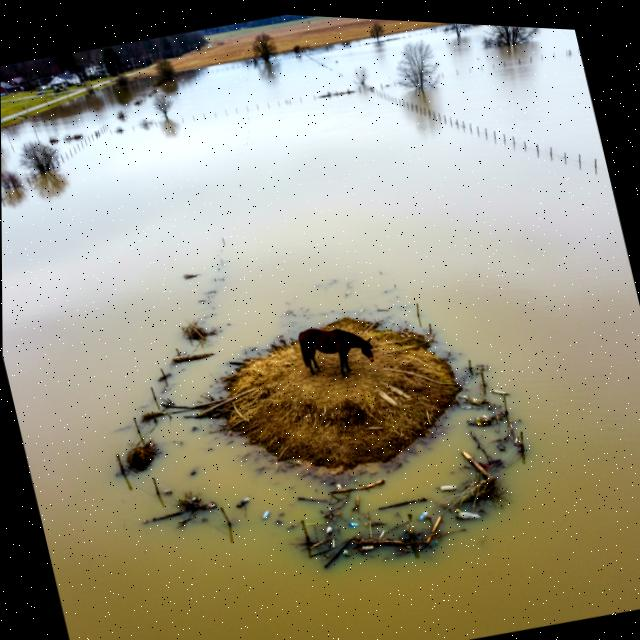horse: (292, 312, 389, 394)
